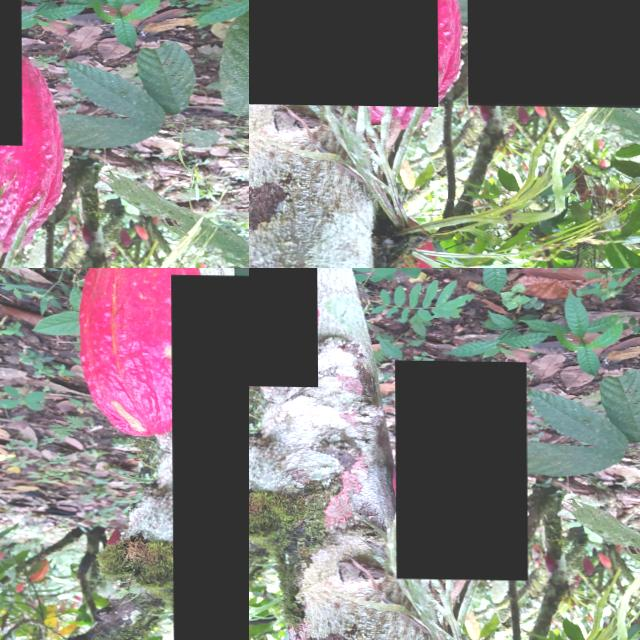Monilia: (249, 0, 437, 105)
Sana: (395, 359, 528, 579), (170, 274, 249, 640), (464, 0, 640, 106), (249, 268, 317, 386), (261, 87, 284, 115)
